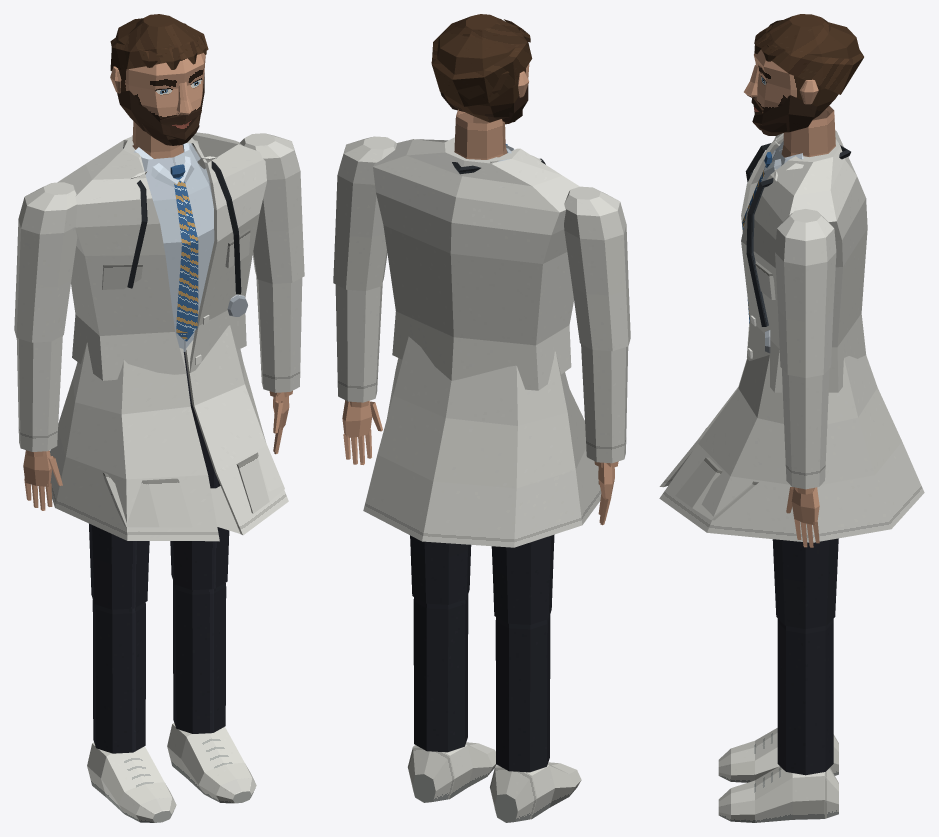
Rendered from doctor.glb.
3 renders of one model, left to right at view 1: azimuth 30°, elevation 25°; view 2: azimuth 150°, elevation 25°; view 3: azimuth 270°, elevation 25°, orthographic. The views are drawn at different scales.
Parts seen in each view (by area): view 1: coat_skirt, coat_upper, upper_arm_r, calf_r, calf_l, upper_arm_l, shirt_under, lower_arm_r, lower_arm_l, shoe_l, shoe_r, head_skull (+11 smaller); view 2: coat_upper, coat_skirt, upper_arm_r, calf_r, calf_l, upper_arm_l, lower_arm_r, lower_arm_l, thigh_r, hair_cap, head_skull, shoe_r (+4 smaller); view 3: coat_skirt, coat_upper, upper_arm_l, calf_l, thigh_l, shoe_l, lower_arm_l, hair_cap, head_skull, shoe_r, neck_column, stethoscope_tube (+3 smaller).
Part boxes in pixels (<box>): coat_skirt: <box>50,325,288,541</box>; coat_upper: <box>57,132,266,380</box>; upper_arm_r: <box>14,182,77,342</box>; calf_r: <box>92,600,145,753</box>; calf_l: <box>173,581,226,733</box>; upper_arm_l: <box>240,133,304,283</box>; shirt_under: <box>141,143,214,351</box>; lower_arm_r: <box>16,335,62,456</box>; lower_arm_l: <box>256,277,302,397</box>; shoe_l: <box>167,723,256,803</box>; shoe_r: <box>87,742,176,822</box>; head_skull: <box>115,18,205,145</box>; coat_upper: <box>373,137,579,390</box>; coat_skirt: <box>363,336,614,547</box>; upper_arm_r: <box>564,186,630,351</box>; calf_r: <box>495,615,550,772</box>; calf_l: <box>413,594,468,752</box>; upper_arm_l: <box>333,136,396,290</box>; lower_arm_r: <box>581,344,628,467</box>; lower_arm_l: <box>335,284,382,407</box>; thigh_r: <box>491,534,554,624</box>; hair_cap: <box>431,14,532,106</box>; head_skull: <box>437,29,529,124</box>; shoe_r: <box>490,762,581,822</box>; coat_skirt: <box>659,355,924,542</box>; coat_upper: <box>741,130,867,392</box>; upper_arm_l: <box>775,209,836,377</box>; calf_l: <box>777,619,833,775</box>; thigh_l: <box>772,538,838,629</box>; shoe_l: <box>718,766,838,822</box>; lower_arm_l: <box>782,369,829,494</box>; hair_cap: <box>758,14,863,94</box>; head_skull: <box>753,22,860,135</box>; shoe_r: <box>718,728,838,782</box>; neck_column: <box>781,105,835,157</box>; stethoscope_tube: <box>745,143,850,326</box>.
Bounding box in the file's own units: 0.7231 × 1.85 × 0.5717.
Materials: 1 (1 with a texture image).
